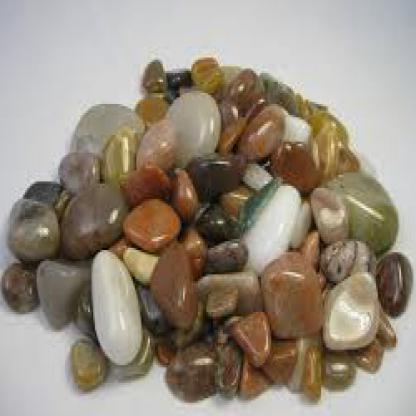Metamorphic_Quartize: (75, 246, 143, 367), (324, 172, 404, 245), (261, 252, 321, 345), (324, 259, 384, 345), (148, 235, 198, 330), (6, 197, 62, 268), (96, 124, 135, 208), (188, 146, 243, 199), (243, 106, 284, 162)
